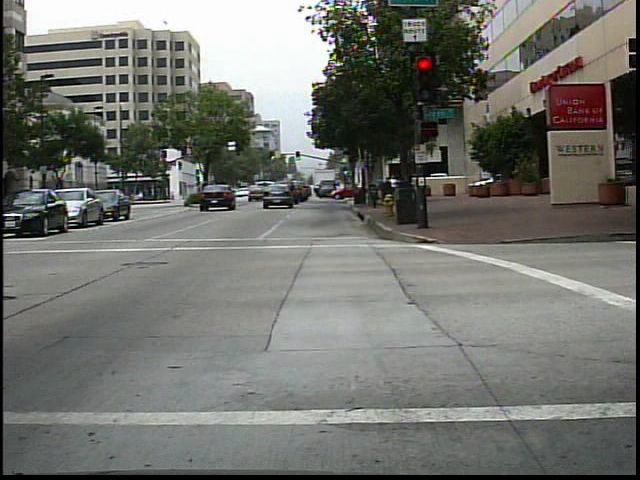person: (167, 188, 178, 204)
